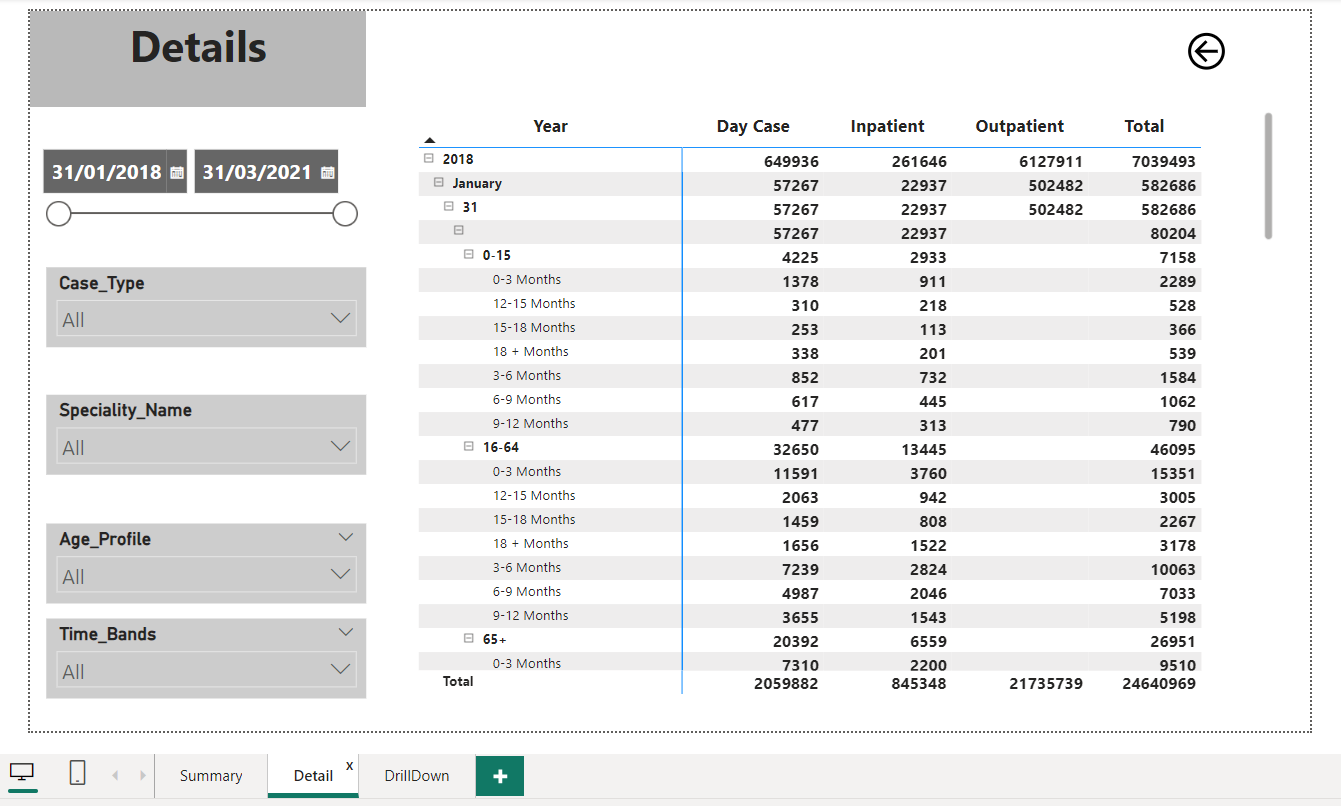

Layout of this report page (visuals, bound fields, positions):
{"tool":"powerbi","page":{"name":"Detail","canvas":[1280,720],"ordinal":1},"visuals":[{"type":"slicer","fields":{"Values":["All_Data.Archive_Date"]},"box":[0,128,336,96],"z":0},{"type":"slicer","fields":{"Values":["All_Data.Case_Type"]},"box":[16,256,320,80],"z":1000},{"type":"slicer","fields":{"Values":["All_Data.Speciality_Name"]},"box":[16,384,320,80],"z":2000},{"type":"textbox","box":[0,0,336,96],"z":3000},{"type":"slicer","fields":{"Values":["All_Data.Age_Profile"]},"box":[16,512,320,80],"z":4000},{"type":"slicer","fields":{"Values":["All_Data.Time_Bands"]},"box":[16,608,320,80],"z":5000},{"type":"pivotTable","fields":{"Rows":["All_Data.Archive_Date.Variation.Date Hierarchy.Year","All_Data.Archive_Date.Variation.Date Hierarchy.Month","All_Data.Archive_Date.Variation.Date Hierarchy.Day","All_Data.Speciality_Name","All_Data.Age_Profile","All_Data.Time_Bands"],"Columns":["All_Data.Case_Type"],"Values":["Sum(All_Data.Total)"]},"box":[384,96,864,592],"z":6000},{"type":"actionButton","box":[1152,16,96,48],"z":6001}]}

Visuals, with their boxes on the page's 1280x720 design canvas (x1, y1, x2, y2). These are canvas units, not pixel positions in the 1341x806 screenshot, which may show the page scaled, cropped or inside an application window:
slicer - All_Data.Archive_Date: region(0, 128, 336, 224)
slicer - All_Data.Case_Type: region(16, 256, 336, 336)
slicer - All_Data.Speciality_Name: region(16, 384, 336, 464)
textbox: region(0, 0, 336, 96)
slicer - All_Data.Age_Profile: region(16, 512, 336, 592)
slicer - All_Data.Time_Bands: region(16, 608, 336, 688)
pivotTable - All_Data.Archive_Date.Variation.Date Hierarchy.Year x All_Data.Archive_Date.Variation.Date Hierarchy.Month: region(384, 96, 1248, 688)
actionButton: region(1152, 16, 1248, 64)
